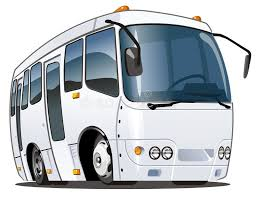bus: (9, 5, 252, 186)
